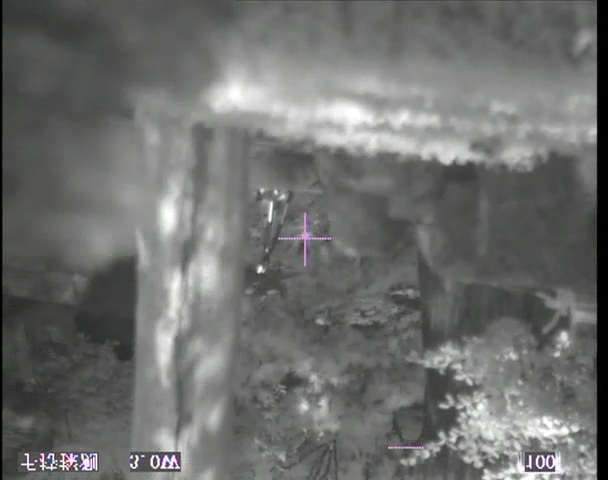my: (256, 265, 265, 275)
